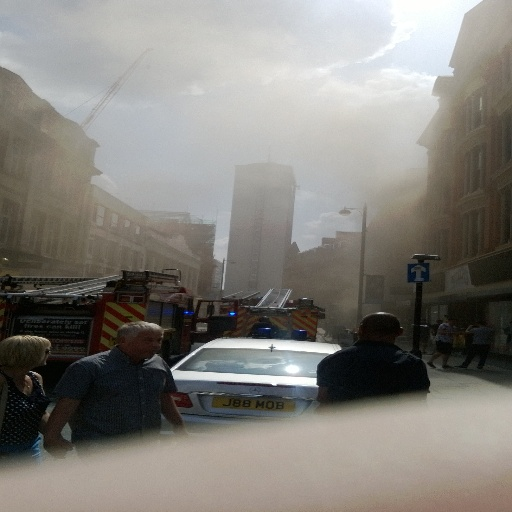hand: (41, 436, 73, 462)
